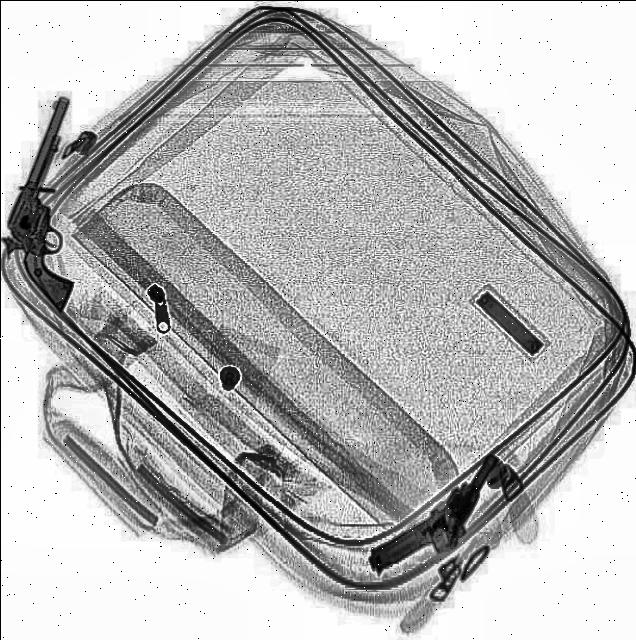Gun: (365, 451, 523, 593), (1, 96, 115, 274)
